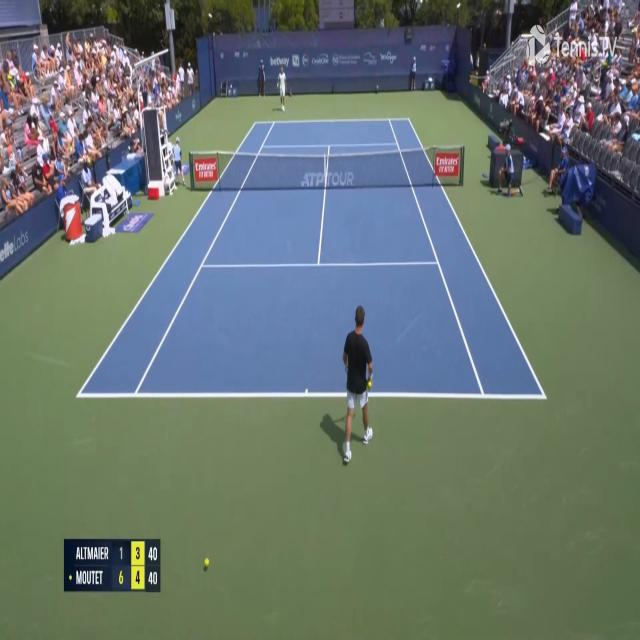tennis-player: (340, 301, 376, 464), (276, 64, 289, 111)
